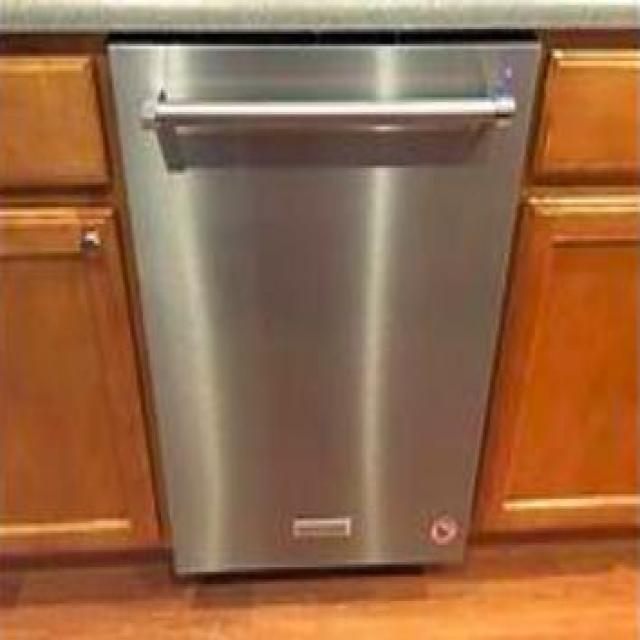dishwasher: (105, 24, 539, 570)
